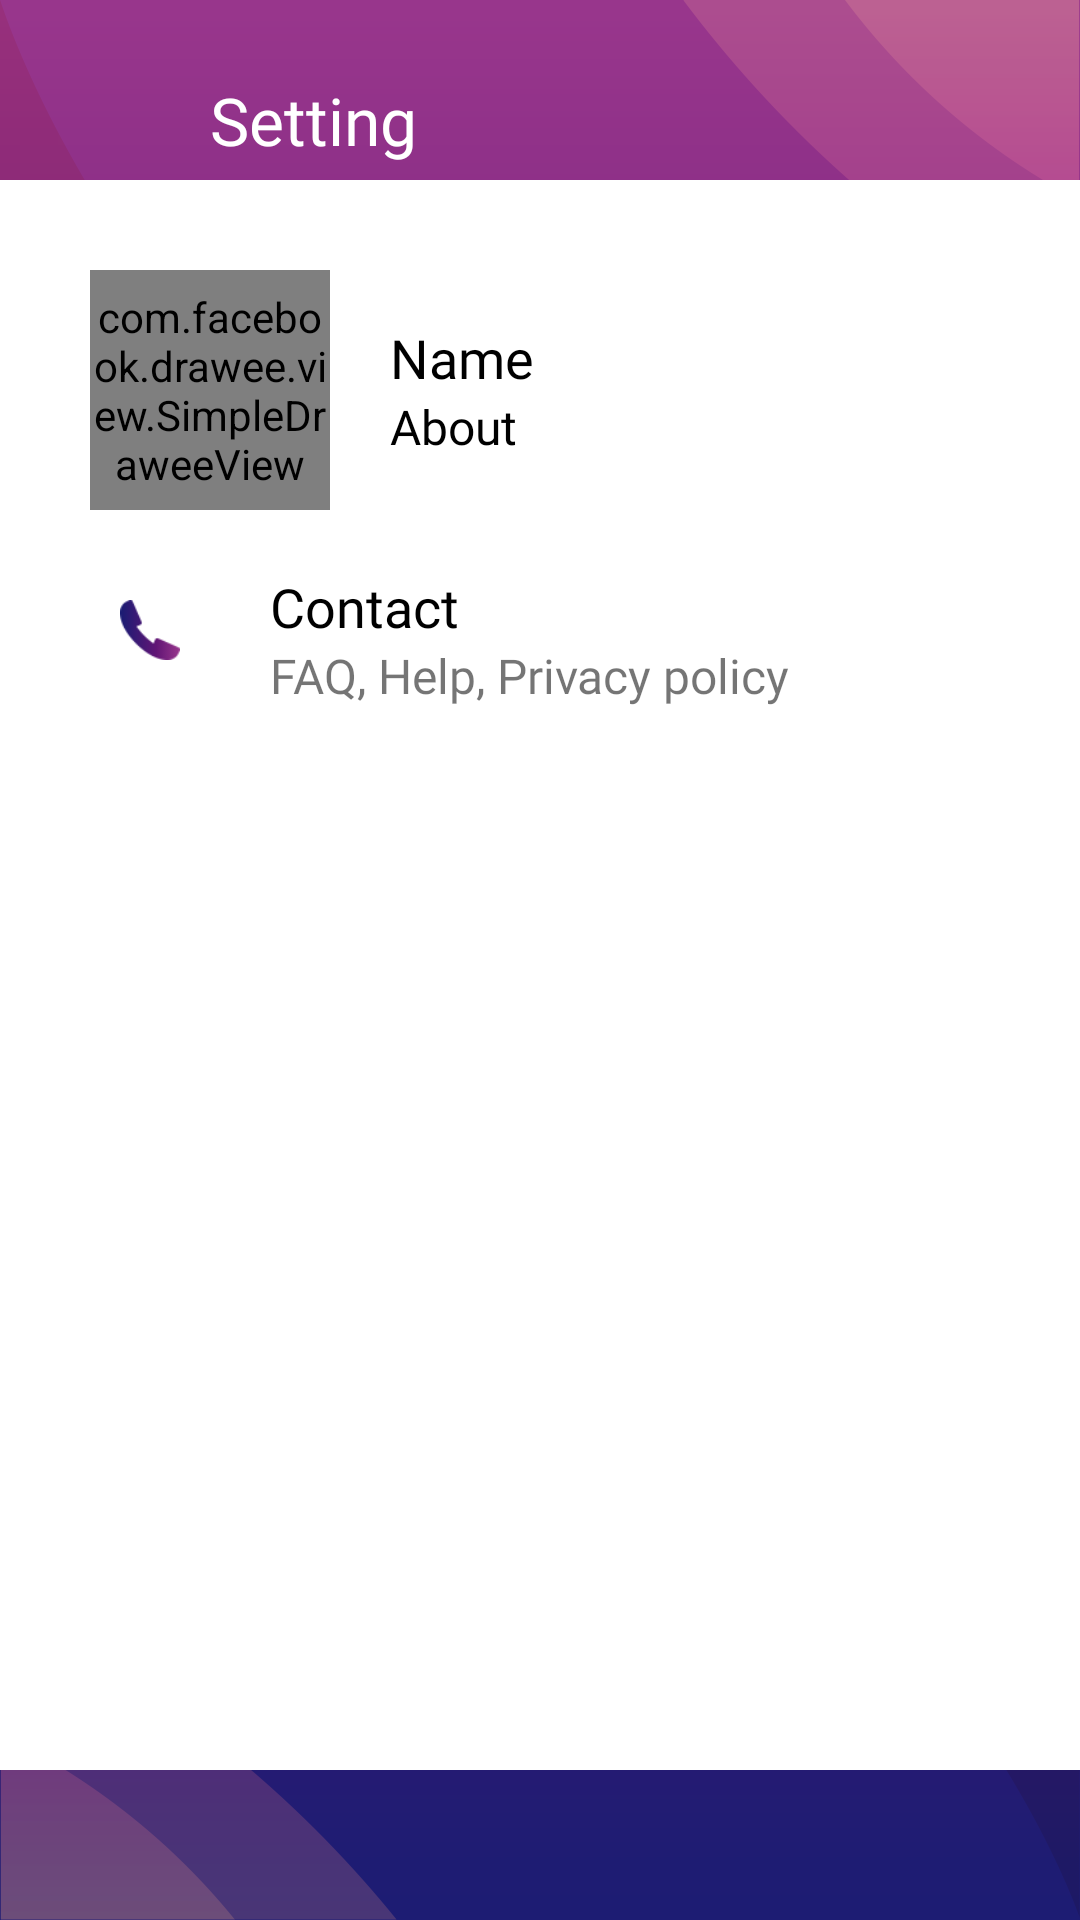

Icon bounding boxes for this 1080px x 1920px phone screenshot, format {"left": x1, "top": y1, "right": x2, "bottom": y2}:
phone: {"left": 120, "top": 600, "right": 180, "bottom": 660}
